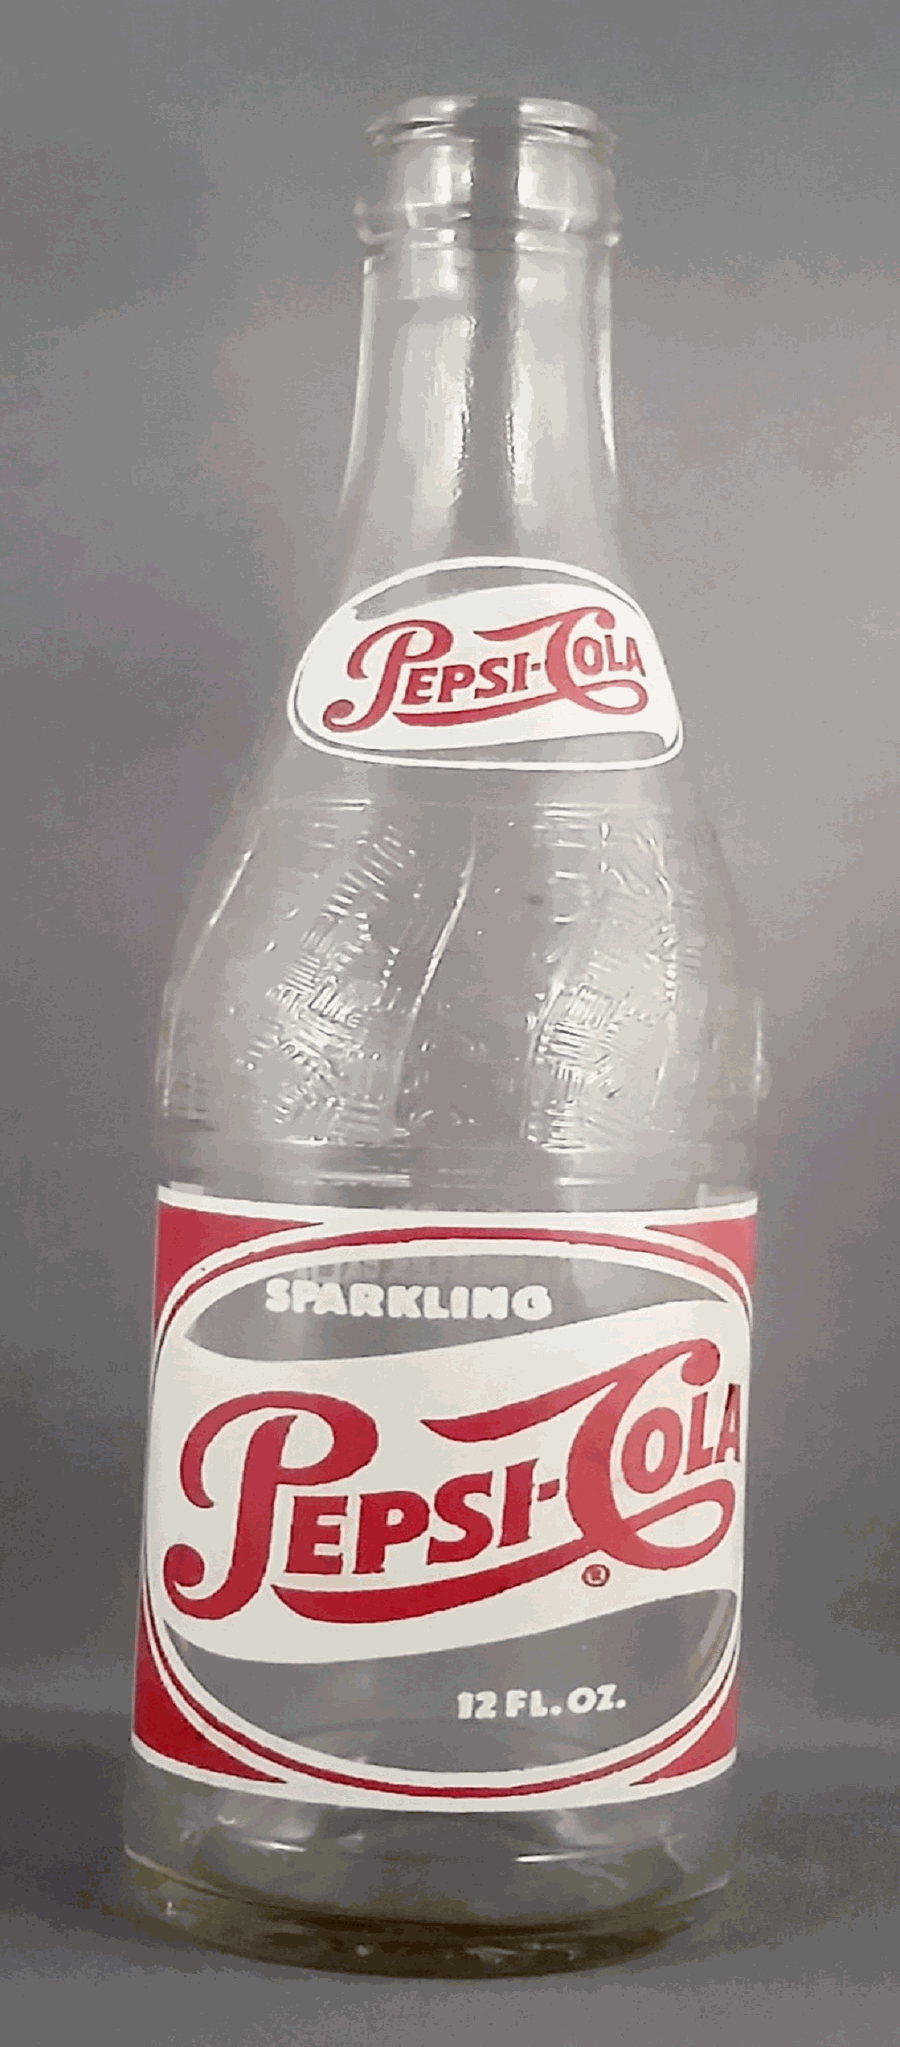Rec_Glass: (84, 37, 786, 1973)
